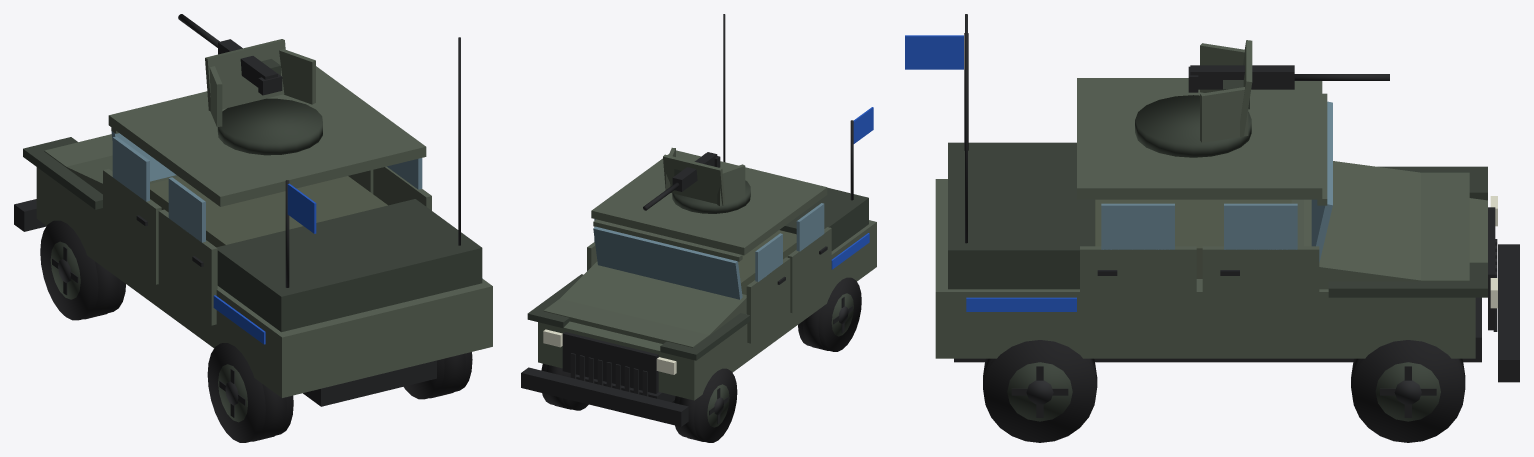
Rendered from Jeep_Blue.fbx.
The picture shows the model from 3 angles, left to right: view 1: azimuth 30°, elevation 25°; view 2: azimuth 150°, elevation 25°; view 3: azimuth 270°, elevation 25°; orthographic projection. The views are drawn at different scales.
Parts seen in each view (by area): view 1: Body, CargoBed, Roof, Seats, RingMount, DoorL2Panel, DoorL1Panel, TyreL2, TyreL1, ShieldFront, Frame, FenderL (+21 smaller); view 2: Roof, Hood, Body, Windshield, Bumper, Grille, HoodTop, DoorL1Panel, DoorL2Panel, CargoBed, TyreL2, TyreL1 (+17 smaller); view 3: Body, Roof, CargoBed, Hood, DoorR1Panel, DoorR2Panel, TyreR2, TyreR1, HoodTop, RingMount, Seats, DoorR1Window (+18 smaller).
Part boxes in pixels (bbox=[...]): Body: bbox=[36, 167, 492, 397]; CargoBed: bbox=[216, 199, 482, 332]; Roof: bbox=[108, 66, 426, 206]; Seats: bbox=[150, 176, 387, 247]; RingMount: bbox=[217, 98, 322, 155]; DoorL2Panel: bbox=[158, 209, 217, 325]; DoorL1Panel: bbox=[103, 168, 161, 284]; TyreL2: bbox=[207, 343, 293, 442]; TyreL1: bbox=[40, 220, 125, 320]; ShieldFront: bbox=[205, 39, 285, 111]; Frame: bbox=[303, 360, 436, 406]; FenderL: bbox=[23, 137, 102, 209]; Roof: bbox=[591, 150, 827, 255]; Hood: bbox=[560, 261, 746, 350]; Body: bbox=[538, 220, 876, 400]; Windshield: bbox=[593, 226, 742, 299]; Bumper: bbox=[521, 367, 688, 426]; Grille: bbox=[562, 332, 658, 393]; HoodTop: bbox=[543, 298, 723, 347]; DoorL1Panel: bbox=[746, 257, 790, 343]; DoorL2Panel: bbox=[788, 227, 831, 312]; CargoBed: bbox=[780, 187, 868, 250]; TyreL2: bbox=[798, 277, 861, 351]; TyreL1: bbox=[674, 368, 737, 442]; Body: bbox=[935, 179, 1475, 358]; Roof: bbox=[1077, 78, 1322, 199]; CargoBed: bbox=[948, 142, 1095, 289]; Hood: bbox=[1304, 161, 1487, 289]; DoorR1Panel: bbox=[1202, 246, 1319, 332]; DoorR2Panel: bbox=[1080, 246, 1196, 332]; TyreR2: bbox=[983, 340, 1096, 442]; TyreR1: bbox=[1351, 340, 1464, 442]; HoodTop: bbox=[1319, 172, 1469, 288]; RingMount: bbox=[1135, 95, 1251, 157]; Seats: bbox=[1095, 199, 1291, 278]; DoorR1Window: bbox=[1224, 203, 1297, 249].
Size of the model in its own units: 235 by 501 by 376.
